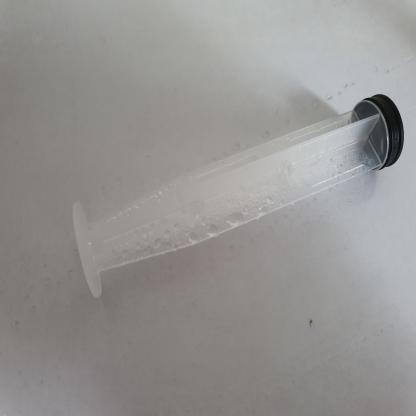wet: (80, 87, 388, 300)
